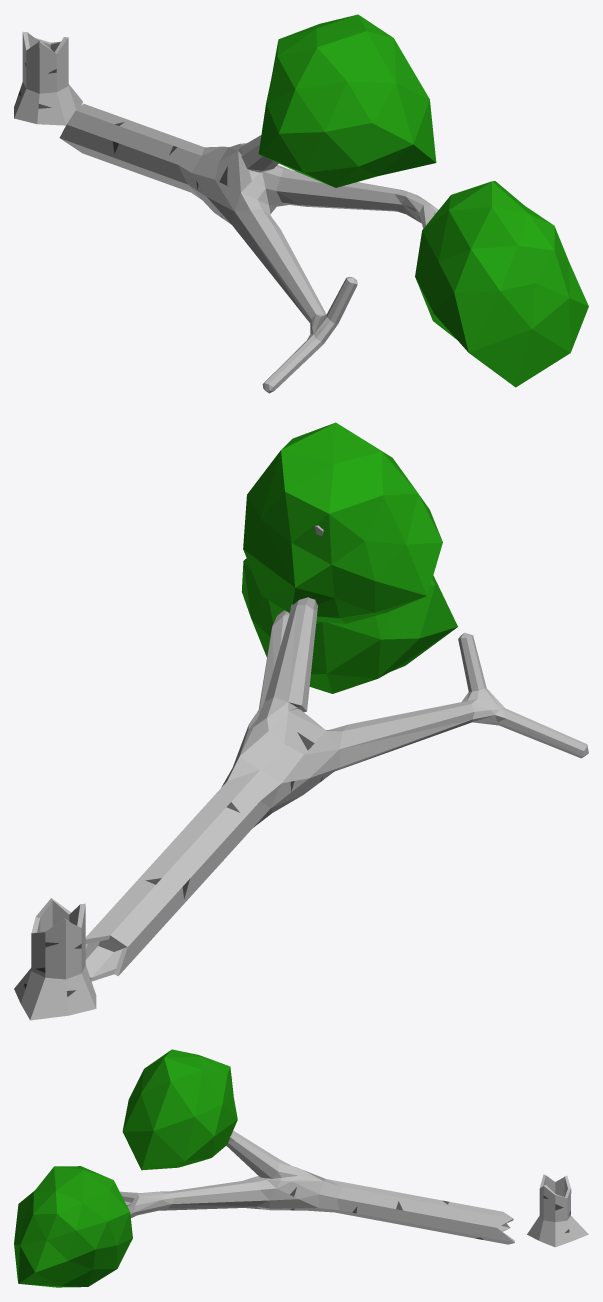
Rendered from Birch_3 Broken.fbx.
3 views of the same model, one above another, from view 1: azimuth 30°, elevation 25°; view 2: azimuth 150°, elevation 25°; view 3: azimuth 270°, elevation 25° (orthographic). The views are drawn at different scales.
Visible parts, largest first — view 1: Birch3Broken_mesh; view 2: Birch3Broken_mesh; view 3: Birch3Broken_mesh.
Part boxes in pixels (left/top/right/bottom): Birch3Broken_mesh: left=14, top=14, right=588, bottom=393; Birch3Broken_mesh: left=14, top=422, right=588, bottom=1020; Birch3Broken_mesh: left=14, top=1049, right=588, bottom=1287.
Size of the model in its own units: 252 by 243 by 616.
